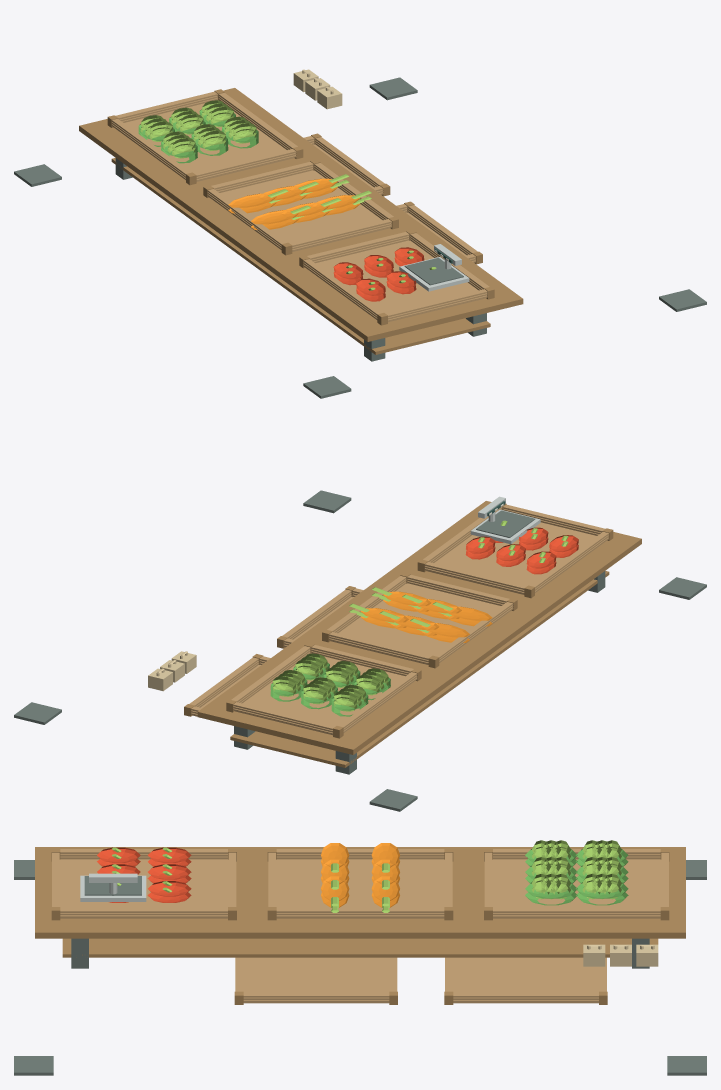
File: market-vegetables-ground.glb
The picture shows the model from 3 angles, top to bottom: view 1: azimuth 30°, elevation 25°; view 2: azimuth 150°, elevation 25°; view 3: azimuth 270°, elevation 25°; orthographic projection. The views are drawn at different scales.
Parts seen in each view (by area): view 1: vegetables market stall; view 2: vegetables market stall; view 3: vegetables market stall.
Part boxes in pixels (left/top/right/bottom): vegetables market stall: left=14, top=69, right=706, bottom=398; vegetables market stall: left=14, top=490, right=706, bottom=811; vegetables market stall: left=14, top=840, right=706, bottom=1075.
Size of the model in its own units: 2.28 by 0.4237 by 3.14.
